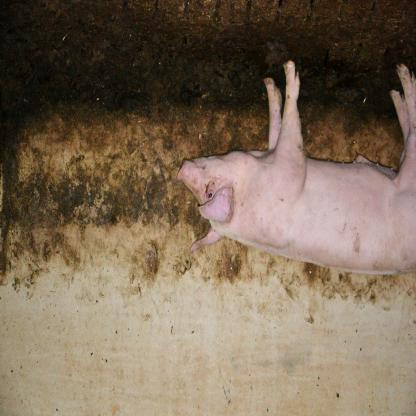boar: (177, 64, 416, 278)
